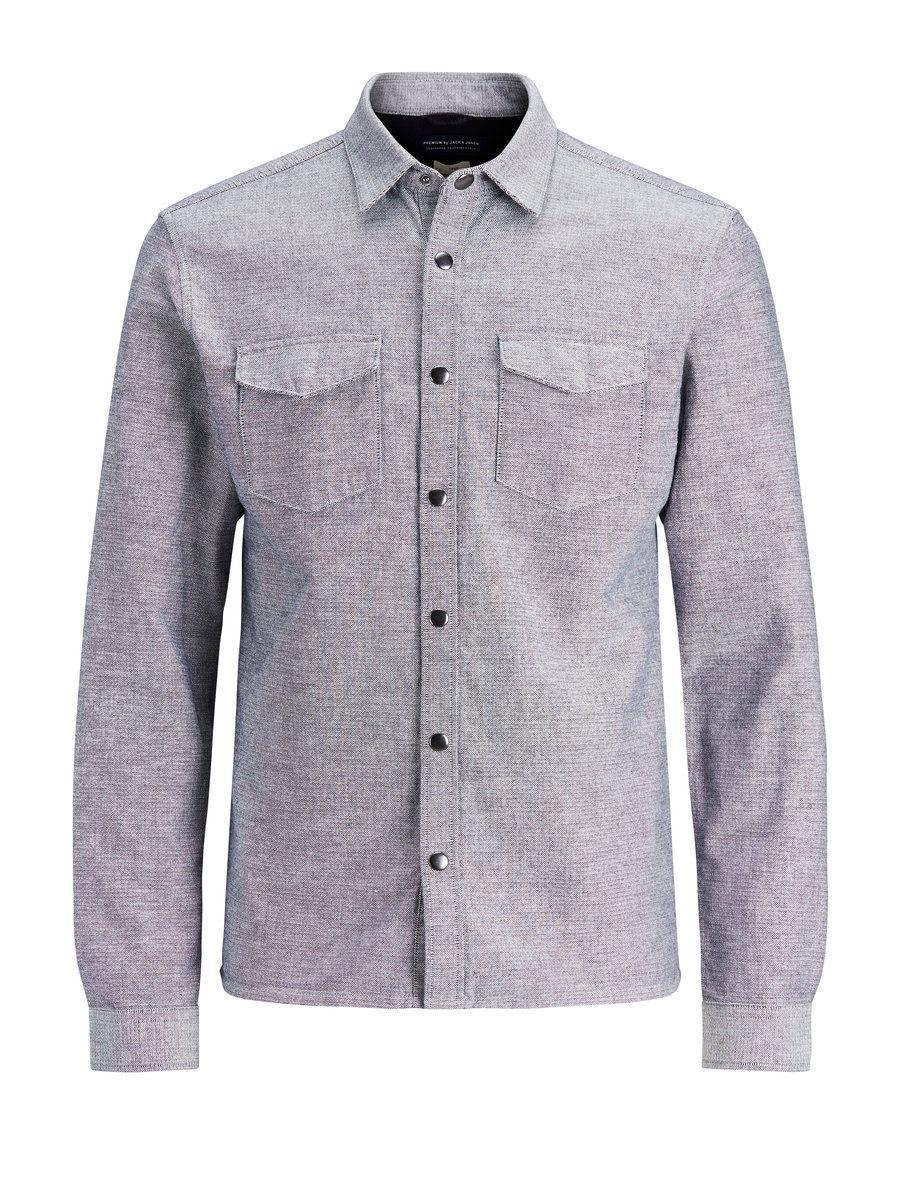teeshirt: (71, 71, 832, 1103)
